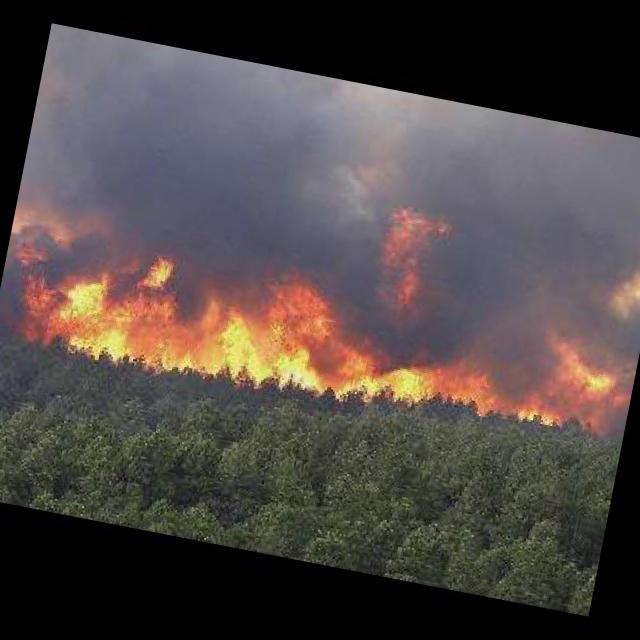Fire: (4, 218, 525, 438), (520, 320, 628, 441), (364, 196, 442, 315)
Smoke: (15, 18, 640, 335)
